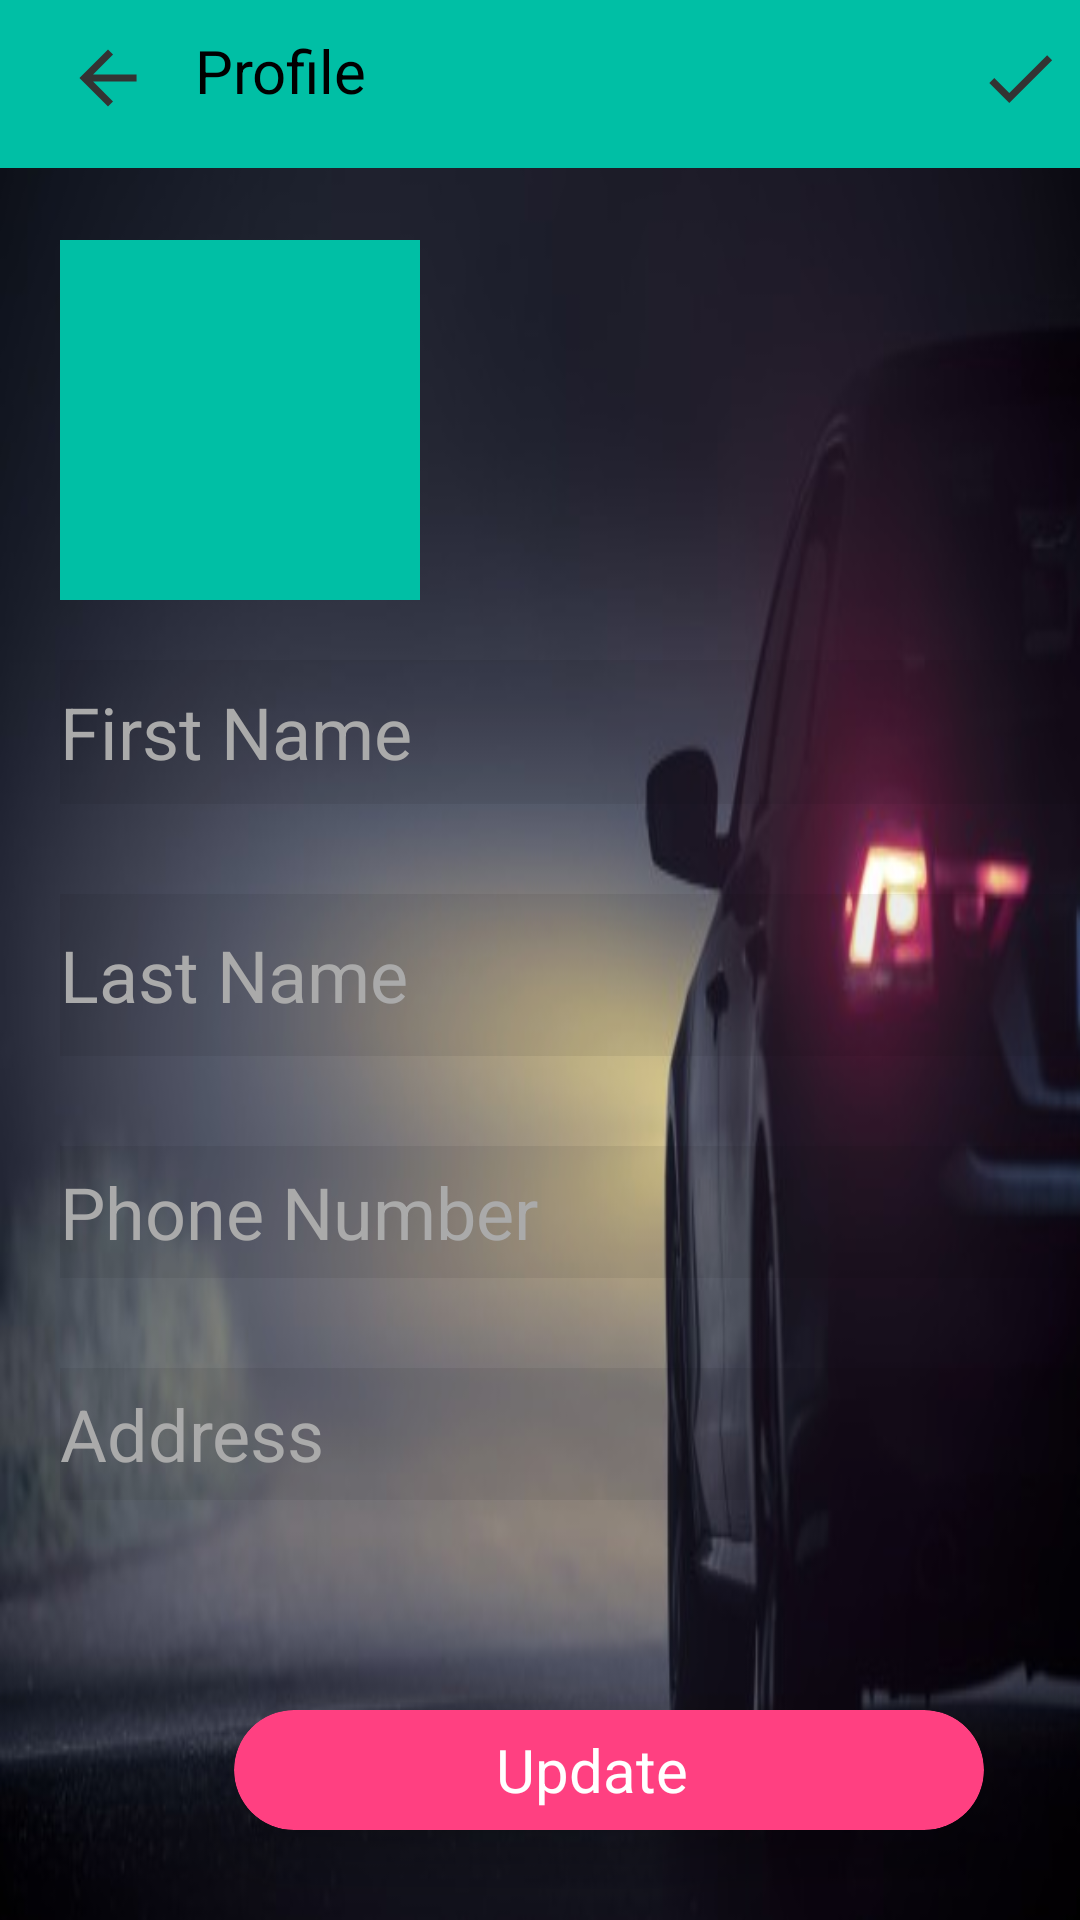

Icons on this 1080 × 1920 Android screen, each with its box as bbox=(x1, y1, x2, y2):
done: bbox=(989, 55, 1052, 103)
go back: bbox=(80, 50, 137, 106)
